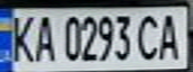0: (60, 11, 81, 63)
2: (78, 11, 100, 63)
3: (112, 11, 136, 62)
9: (97, 11, 118, 62)
A: (154, 10, 187, 61), (30, 11, 57, 63)
C: (136, 10, 163, 61)
K: (3, 11, 39, 64)
